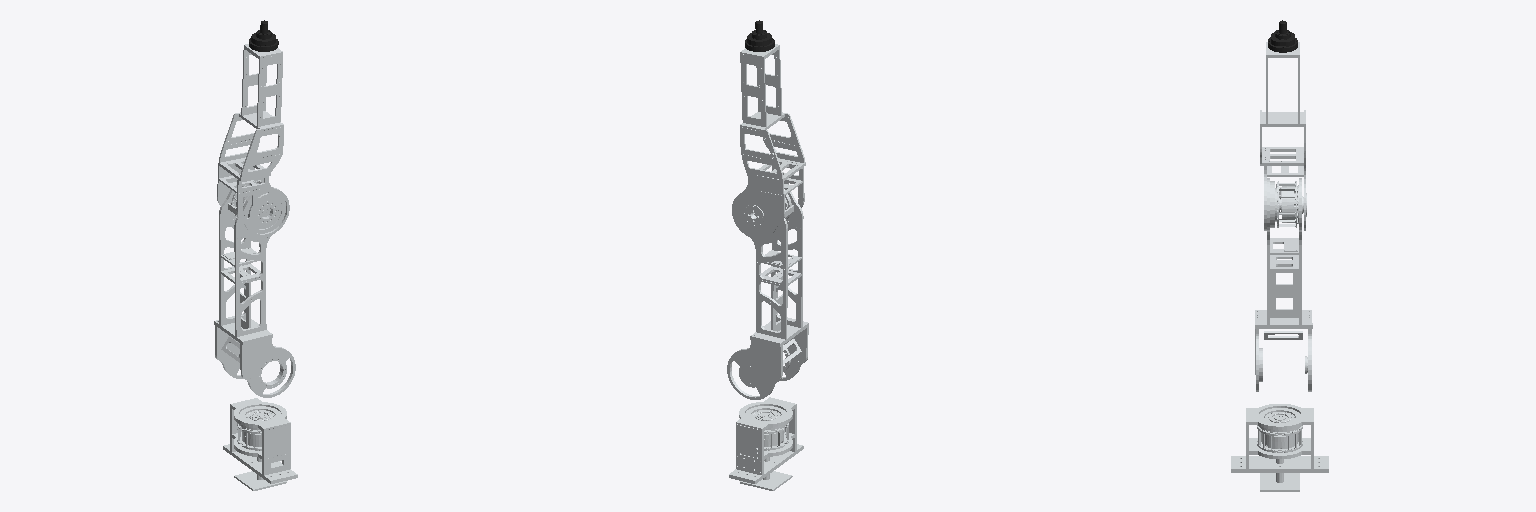
The robot description file, URDF, robot "mcl_3dof":
<?xml version="1.0" encoding="utf-8"?>
<!-- This URDF was automatically created by SolidWorks to URDF Exporter! Originally created by [author] ([email redacted]) 
     Commit Version: 1.6.0-1-g15f4949  Build Version: 1.6.7594.29634
     For more information, please see http://wiki.ros.org/sw_urdf_exporter -->

<robot  name="mcl_3dof">
  <link name="world">
  </link>
  
  <joint name="world_joint" type="fixed">
    <origin rpy="0 0 0" xyz="0 0 0"/>
    <parent link="world"/>
    <child link="base_link"/>
  </joint>

  <link
    name="base_link">
    <inertial>
      <origin
        xyz="-3.20239446884824E-05 0.00032179014494665 0.0780255416330852"
        rpy="0 0 0" />
      <mass
        value="2.97210866060567" />
      <inertia
        ixx="0.014807736439744"
        ixy="-8.69247379621563E-06"
        ixz="2.89184892240664E-06"
        iyy="0.00849183892118372"
        iyz="5.25177651071248E-05"
        izz="0.0112118233526831" />
    </inertial>
    <visual>
      <origin
        xyz="0 0 0"
        rpy="0 0 0" />
      <geometry>
        <mesh filename="../meshes/base_link.STL" />
      </geometry>
      <material
        name="">
        <color
          rgba="0.898039215686275 0.917647058823529 0.929411764705882 1" />
      </material>
    </visual>
    <collision>
      <origin
        xyz="0 0 0"
        rpy="0 0 0" />
      <geometry>
        <mesh filename="../meshes/base_link.obj"/>
      </geometry>
    </collision>
  </link>
  <link
    name="link1">
    <inertial>
      <origin
        xyz="1.86833906878572E-05 1.45068360348307E-05 0.212803532023699"
        rpy="0 0 0" />
      <mass
        value="3.28985374204315" />
      <inertia
        ixx="0.0151239724035253"
        ixy="1.02356042177397E-06"
        ixz="1.03115381341261E-05"
        iyy="0.0138456038375166"
        iyz="9.37533006050866E-05"
        izz="0.00881894422233837" />
    </inertial>
    <visual>
      <origin
        xyz="0 0 0"
        rpy="0 0 0" />
      <geometry>
        <mesh filename="../meshes/link1.STL" />
      </geometry>
      <material
        name="">
        <color
          rgba="0.898039215686275 0.917647058823529 0.929411764705882 1" />
      </material>
    </visual>
    <collision>
      <origin
        xyz="0 0 0"
        rpy="0 0 0" />
      <geometry>
        <mesh filename="../meshes/link1.obj" />
      </geometry>
    </collision>
  </link>
  <joint
    name="joint1"
    type="continuous">
    <origin
      xyz="0 0 0.0569507847000184"
      rpy="0 0 0.00120056804630435" />
    <parent
      link="base_link" />
    <child
      link="link1" />
    <axis
      xyz="0 0 1" />
  </joint>
  <link
    name="link2">
    <inertial>
      <origin
        xyz="0.274430322773381 -0.0204550458921208 0.0116404391422537"
        rpy="0 0 0" />
      <mass
        value="3.93881568442974" />
      <inertia
        ixx="0.0128883627908592"
        ixy="-0.0078049528947116"
        ixz="0.000402684704067785"
        iyy="0.141176626946427"
        iyz="-6.43548505834082E-05"
        izz="0.139610408794833" />
    </inertial>
    <visual>
      <origin
        xyz="0 0 0"
        rpy="0 0 0" />
      <geometry>
        <mesh filename="../meshes/link2.STL" />
      </geometry>
      <material
        name="">
        <color
          rgba="0.898039215686275 0.917647058823529 0.929411764705882 1" />
      </material>
    </visual>
    <collision>
      <origin
        xyz="0 0 0"
        rpy="0 0 0" />
      <geometry>
        <mesh filename="../meshes/link2.obj" />
      </geometry>
    </collision>
  </link>
  <joint
    name="joint2"
    type="continuous">
    <origin
      xyz="0 0 0.228049215299977"
      rpy="1.57079632679392 -1.56463020306352 -3.14159265358881" />
    <parent
      link="link1" />
    <child
      link="link2" />
    <axis
      xyz="4.75788938438077E-05 -0.00771607786742558 -0.999970229496155" />
  </joint>
  <link
    name="link3">
    <inertial>
      <origin
        xyz="0.166452398578567 -0.0254845690494124 0.0112186426280152"
        rpy="0 0 0" />
      <mass
        value="1.59657531450204" />
      <inertia
        ixx="0.00510958910338134"
        ixy="-0.00166532924683158"
        ixz="0.00112209993348911"
        iyy="0.0393229089455213"
        iyz="-5.2549110378132E-05"
        izz="0.0380493609237414" />
    </inertial>
    <visual>
      <origin
        xyz="0 0 0"
        rpy="0 0 0" />
      <geometry>
        <mesh filename="../meshes/link3.STL" />
      </geometry>
      <material
        name="">
        <color
          rgba="0.898039215686275 0.917647058823529 0.929411764705882 1" />
      </material>
    </visual>
    <collision>
      <origin
        xyz="0 0 0"
        rpy="0 0 0" />
      <geometry>
        <mesh filename="../meshes/link3.obj" />
      </geometry>
    </collision>
  </link>
  <joint
    name="joint3"
    type="continuous">
    <origin
      xyz="0.449877646861617 0.0104928216795562 -5.95605214722162E-05"
      rpy="0 0 0.0429632498504854" />
    <parent
      link="link2" />
    <child
      link="link3" />
    <axis
      xyz="-0.000283870816533773 -0.00771100115204504 -0.999970229496155" />
  </joint>
  <link
    name="link_ee">
    <inertial>
      <origin
        xyz="0.22422 -4.7578E-06 -1.6916E-05"
        rpy="0 0 0" />
      <mass
        value="0.12473" />
      <inertia
        ixx="6.785E-05"
        ixy="5.3487E-12"
        ixz="-1.9213E-09"
        iyy="6.4014E-05"
        iyz="1.0158E-08"
        izz="6.2949E-05" />
    </inertial>
    <visual>
      <origin
        xyz="0 0 0"
        rpy="0 0 0" />
      <geometry>
        <mesh
          filename="../meshes/link_ee.STL" />
      </geometry>
      <material
        name="">
          <contact name="ice"/>
        <color
          rgba="0.20392 0.20392 0.20392 1" />
      </material>
    </visual>
    <collision>
      <origin
        xyz="0 0 0"
        rpy="0 0 0" />
      <geometry>
        <mesh
          filename="../meshes/link_ee.obj" />
      </geometry>
    </collision>
  </link>
  <joint
    name="joint_ee"
    type="fixed">
    <origin
      xyz="0.44867 -0.010488 0.0075596"
      rpy="0 0 1.5707" />
    <parent
      link="link3" />
    <child
      link="link_ee" />
    <axis
      xyz="0 0 0" />
  </joint>

  <joint name="joint_ee_tip" type="fixed">
    <parent link="link_ee"/>
    <child link="ee_tip"/>
    <origin rpy="0 0 0" xyz="0 -0.075 0.0"/>      
    <axis xyz="0 0 1"/>
  </joint>  
       
  <link name="ee_tip">
      <inertial>
      <origin rpy="0 0 0" xyz="0 0 0"/>
      <mass value="0"/>
      <inertia ixx="0.0" ixy="0.0" ixz="0.0" iyy="0.0" iyz="0.0" izz="0.0"/>
    </inertial>  
  </link>
  
</robot>

--- Render facts (derived) ---
The picture shows the robot from 3 angles, left to right: view 1: azimuth 30°, elevation 25°; view 2: azimuth 150°, elevation 25°; view 3: azimuth 270°, elevation 25°; orthographic projection.
Robot: mcl_3dof — 7 links, 6 joints (3 continuous, 3 fixed); root link world; default pose: every joint at zero.
Visible links, largest first — view 1: link2, link3, base_link, link_ee; view 2: link2, link3, base_link, link_ee; view 3: link2, base_link, link3, link1, link_ee.
Boxes of the visible links, x1,y1,x2,y2 form: link2: [214, 178, 295, 397]; link3: [217, 44, 289, 236]; base_link: [223, 398, 297, 483]; link_ee: [249, 20, 278, 51]; link2: [727, 189, 808, 399]; link3: [732, 44, 805, 239]; base_link: [729, 397, 803, 483]; link_ee: [745, 20, 774, 51]; link2: [1255, 178, 1312, 391]; base_link: [1231, 404, 1328, 472]; link3: [1260, 42, 1306, 230]; link1: [1260, 459, 1299, 491]; link_ee: [1268, 20, 1297, 52].
Size in the robot's own frame: 0.1627 by 0.25 by 1.31 metres.
Meshes: 5 distinct files referenced, 5 mesh visuals loaded (5 binary STL).